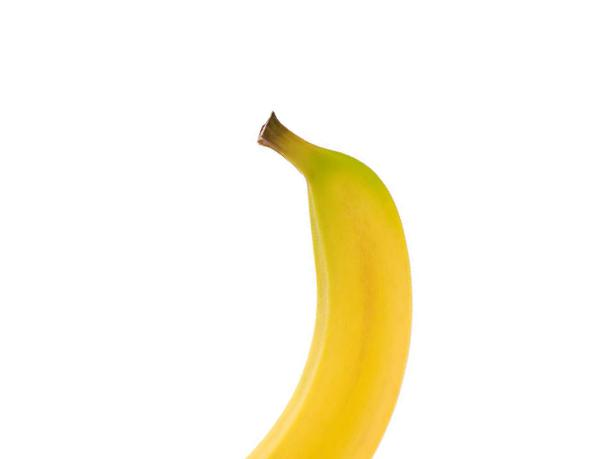banana: (242, 110, 414, 457)
